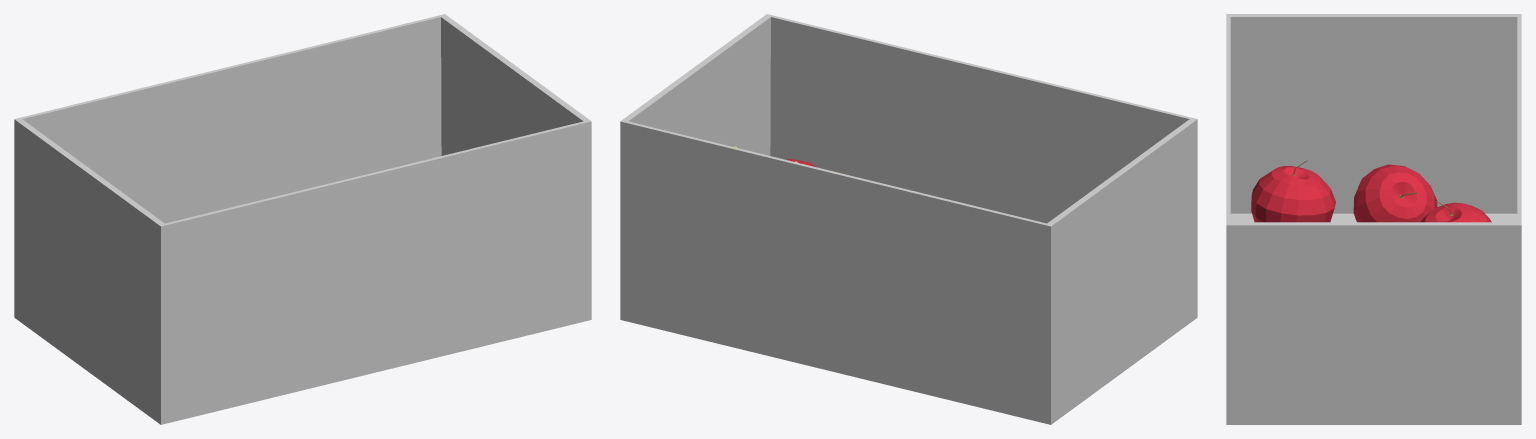
The model's file is transparent-ref-box-with-fruits.fbx.
The picture shows the model from 3 angles, left to right: view 1: azimuth 30°, elevation 25°; view 2: azimuth 150°, elevation 25°; view 3: azimuth 270°, elevation 25°; orthographic projection.
Parts seen in each view (by area): view 1: Cube; view 2: Cube; view 3: Cube, apple_top.006, apple_top.004, apple_top.001.
Boxes of the visible parts, x1,y1,x2,y2 form: Cube: (14, 14, 591, 424); Cube: (620, 14, 1197, 424); Cube: (1226, 14, 1521, 424); apple_top.006: (1251, 160, 1335, 222); apple_top.004: (1353, 164, 1437, 222); apple_top.001: (1420, 201, 1491, 222).
Size of the model in its own units: 470 by 207 by 277.
